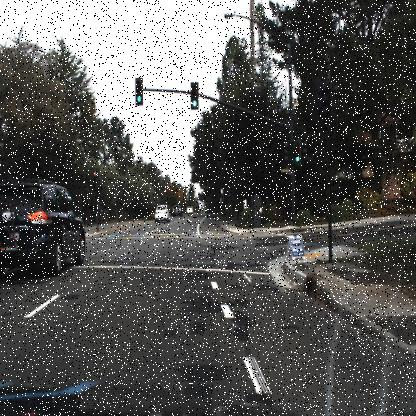car: (0, 180, 86, 276), (154, 200, 170, 223), (172, 204, 182, 218), (187, 204, 193, 214)
trafficLight-Green: (134, 76, 144, 110), (190, 79, 198, 112), (293, 136, 300, 171)
trafficLight-RedLeft: (90, 167, 98, 191)
